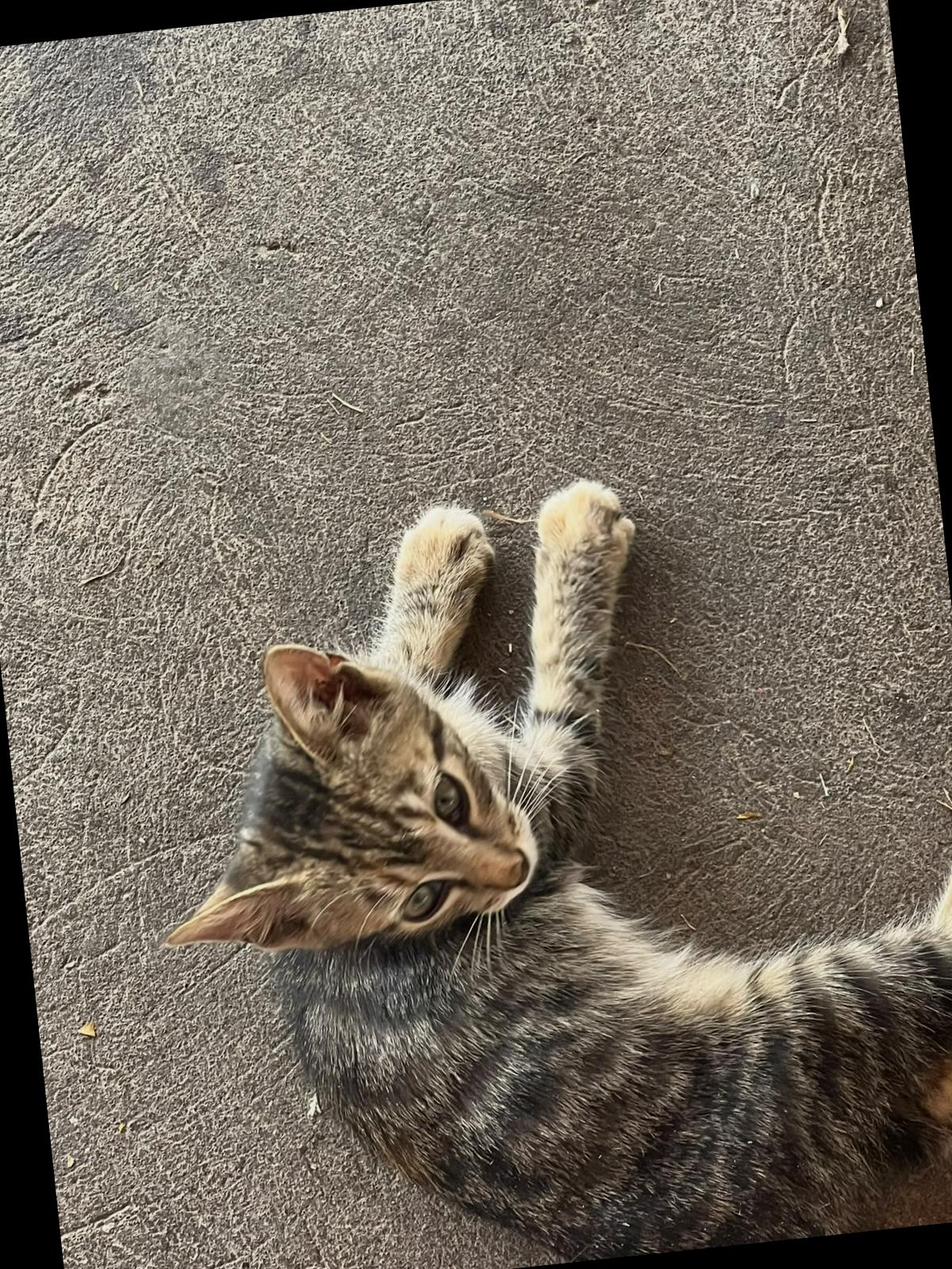macka: (118, 445, 952, 1269)
